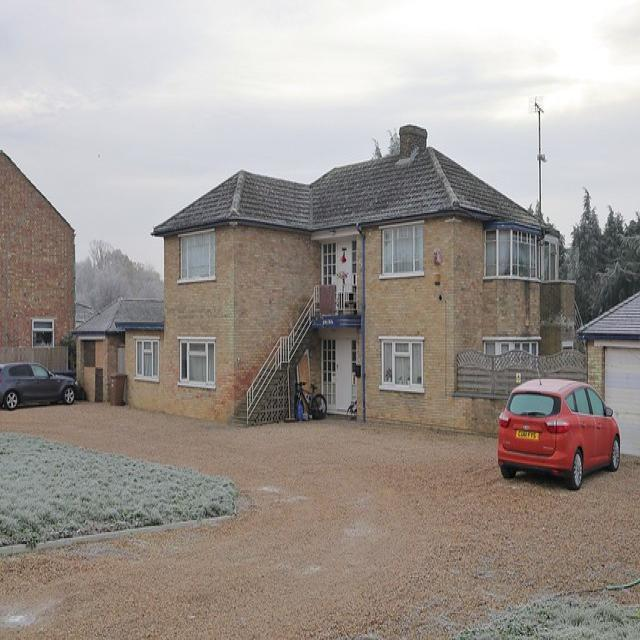building: (150, 120, 565, 430)
